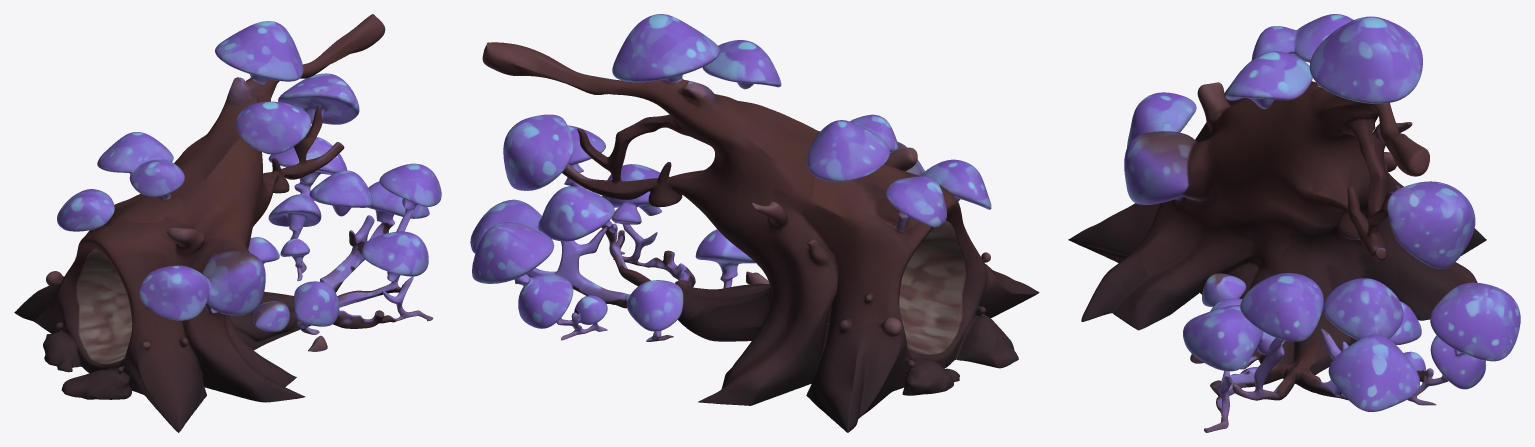
File: noite_tronco_biopunk.glb
3 views of the same model, side by side, from view 1: azimuth 30°, elevation 25°; view 2: azimuth 150°, elevation 25°; view 3: azimuth 270°, elevation 25° (orthographic). The views are drawn at different scales.
Size of the model in its own units: 1.9 by 1.2 by 1.41.
Materials: 1 (1 with a texture image).
